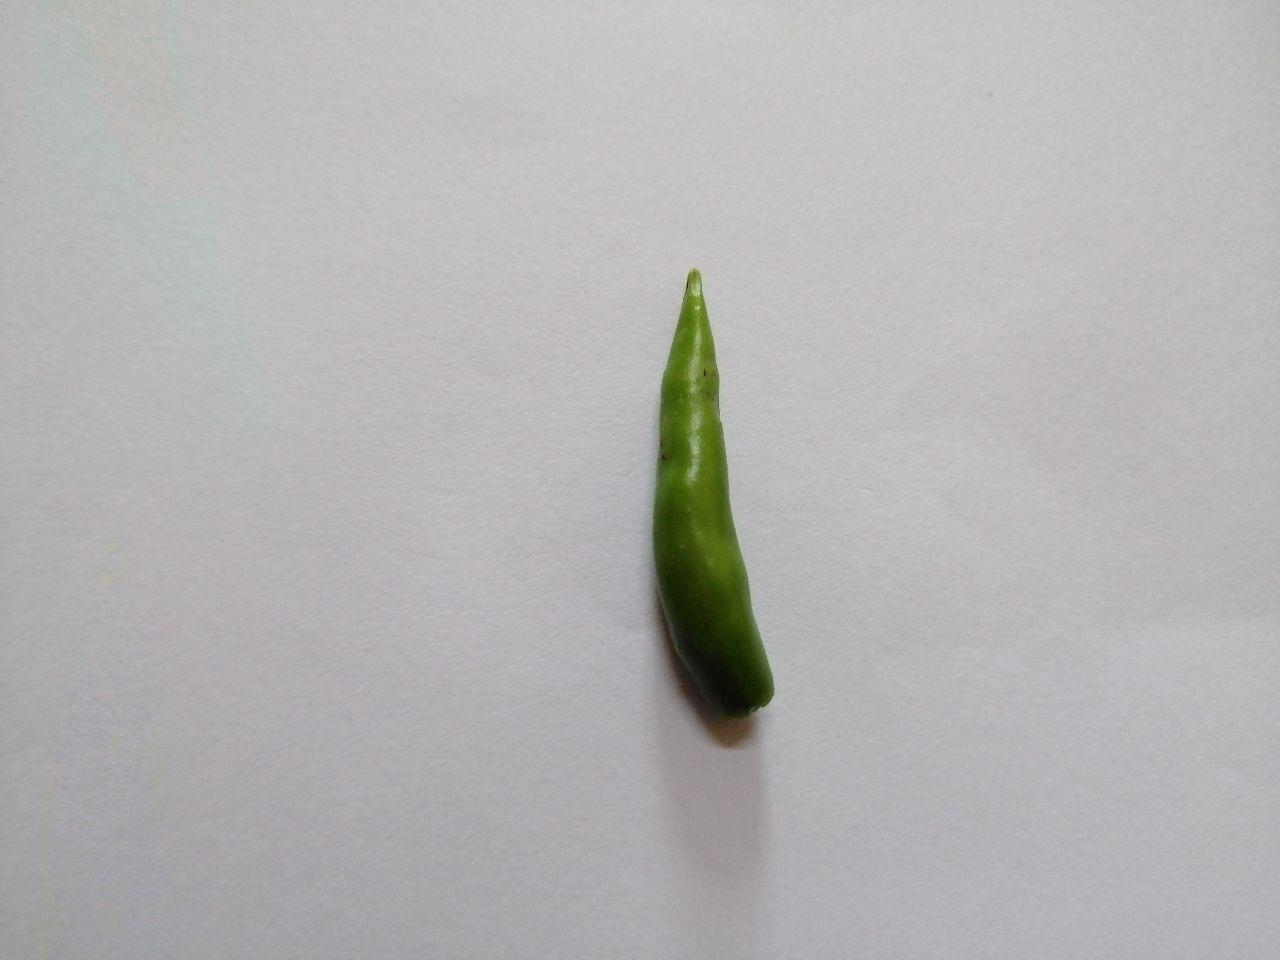lada hijau: (609, 255, 806, 749)
